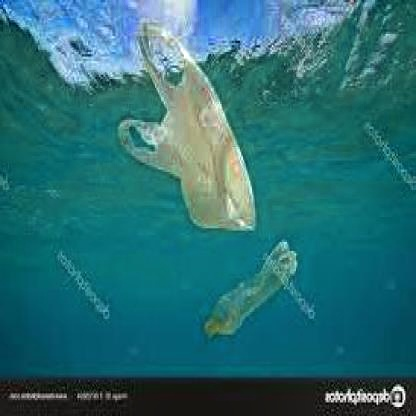pbag: (117, 20, 258, 233)
pbottle: (200, 237, 298, 344)
